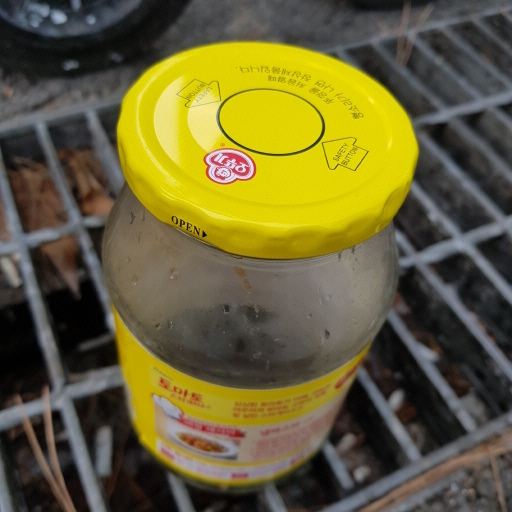Glass_5: (102, 39, 421, 493)
